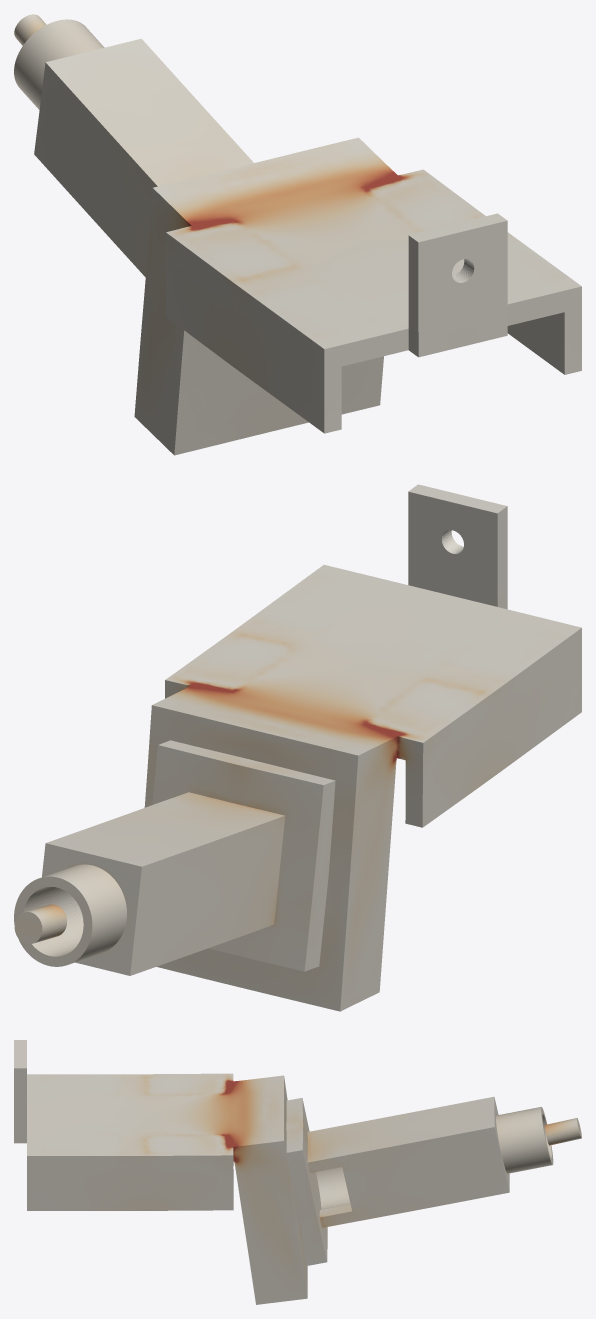
Rendered from z_strip_Fy_vm.glb.
The picture shows the model from 3 angles, top to bottom: view 1: azimuth 30°, elevation 25°; view 2: azimuth 150°, elevation 25°; view 3: azimuth 270°, elevation 25°; orthographic projection. The views are drawn at different scales.
Parts seen in each view (by area): view 1: geometry_0; view 2: geometry_0; view 3: geometry_0.
Boxes of the visible parts, box(x1,y1,x2,y2) form: geometry_0: box(14, 14, 581, 455); geometry_0: box(14, 484, 581, 1011); geometry_0: box(14, 1040, 581, 1304).
Size of the model in its own units: 150 by 186 by 440.
